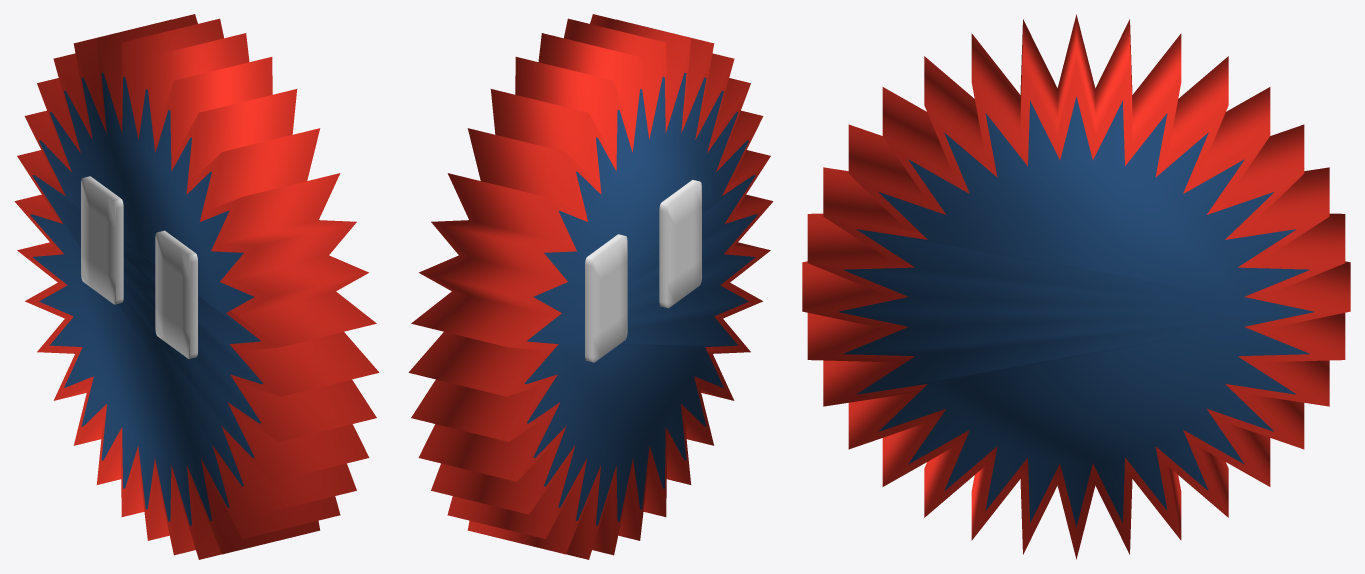
Rendered from NegInny.fbx.
3 views of the same model, side by side, from view 1: azimuth 30°, elevation 25°; view 2: azimuth 150°, elevation 25°; view 3: azimuth 270°, elevation 25° (orthographic). The views are drawn at different scales.
Visible parts, largest first — view 1: NegInny; view 2: NegInny; view 3: NegInny.
Part boxes in pixels (left/top/right/bottom): NegInny: left=14, top=14, right=379, bottom=559; NegInny: left=408, top=14, right=773, bottom=559; NegInny: left=802, top=14, right=1350, bottom=559.
Bounding box in the file's own units: 54.39 × 231 × 231.
